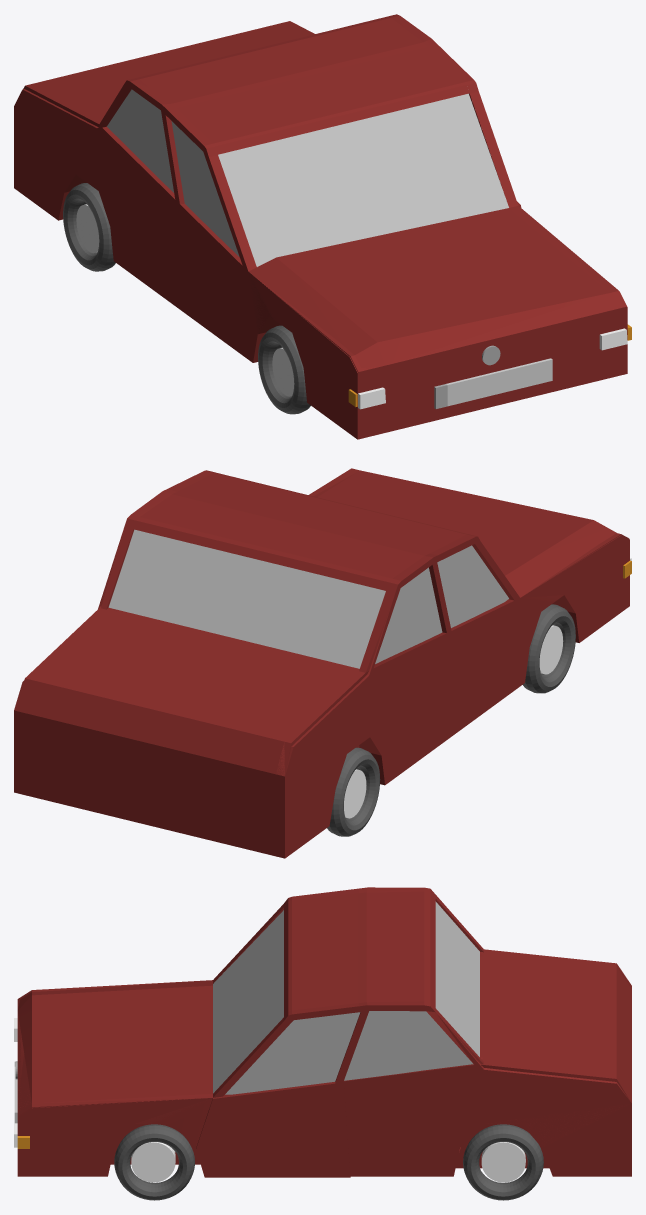
Rendered from voitures2.glb.
3 views of the same model, one above another, from view 1: azimuth 30°, elevation 25°; view 2: azimuth 150°, elevation 25°; view 3: azimuth 270°, elevation 25° (orthographic). The views are drawn at different scales.
Visible parts, largest first — view 1: car24.004; view 2: car24.004; view 3: car24.004.
Boxes of the visible parts, x1=… form: car24.004: x1=14, y1=14, x2=631, y2=439; car24.004: x1=14, y1=468, x2=631, y2=858; car24.004: x1=14, y1=887, x2=631, y2=1200.
Size of the model in its own units: 1.44 by 1.09 by 3.09.
